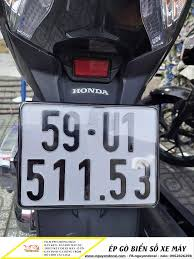number-plate: (23, 105, 159, 205)
